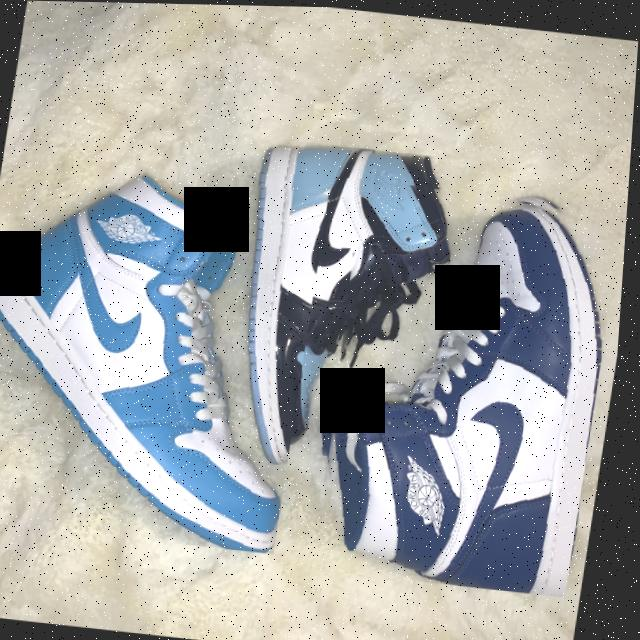shoe: (308, 174, 629, 595), (0, 150, 333, 553), (222, 136, 470, 469)
